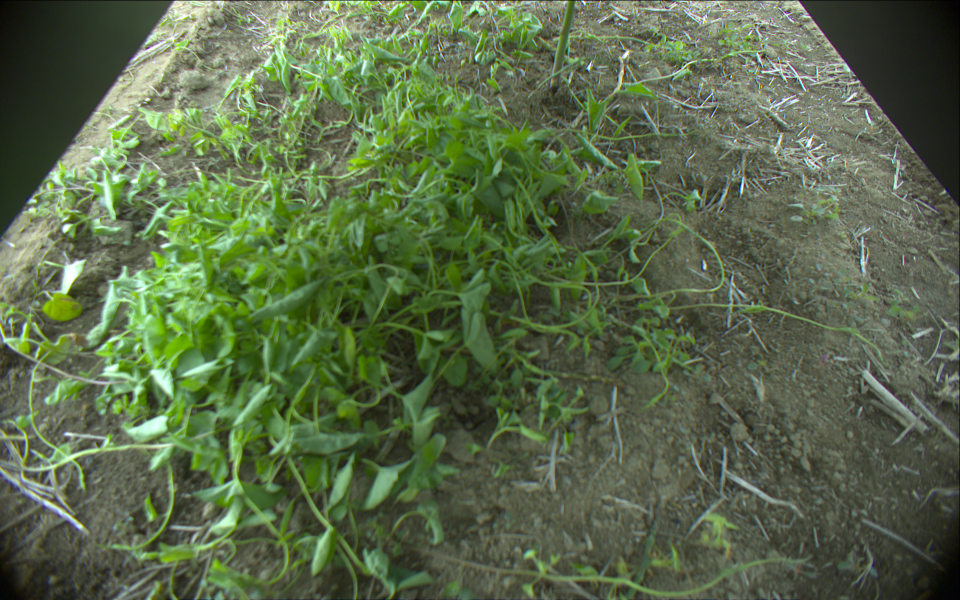aspa: (549, 1, 576, 90)
